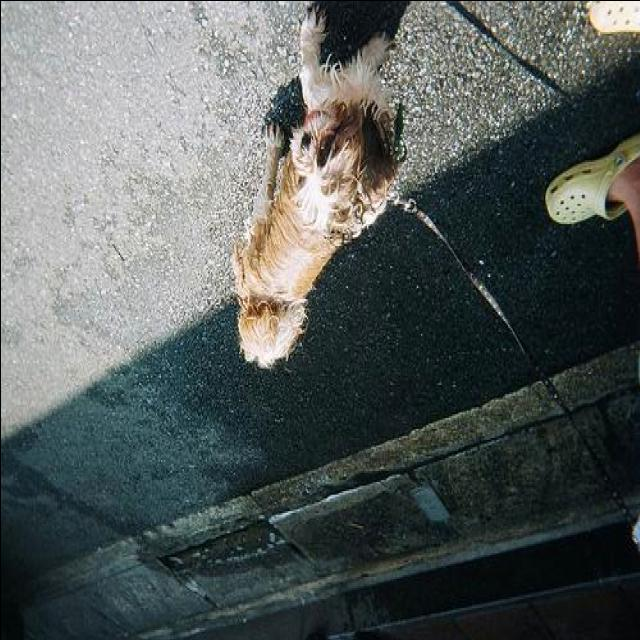shih_tzu: (228, 6, 408, 373)
